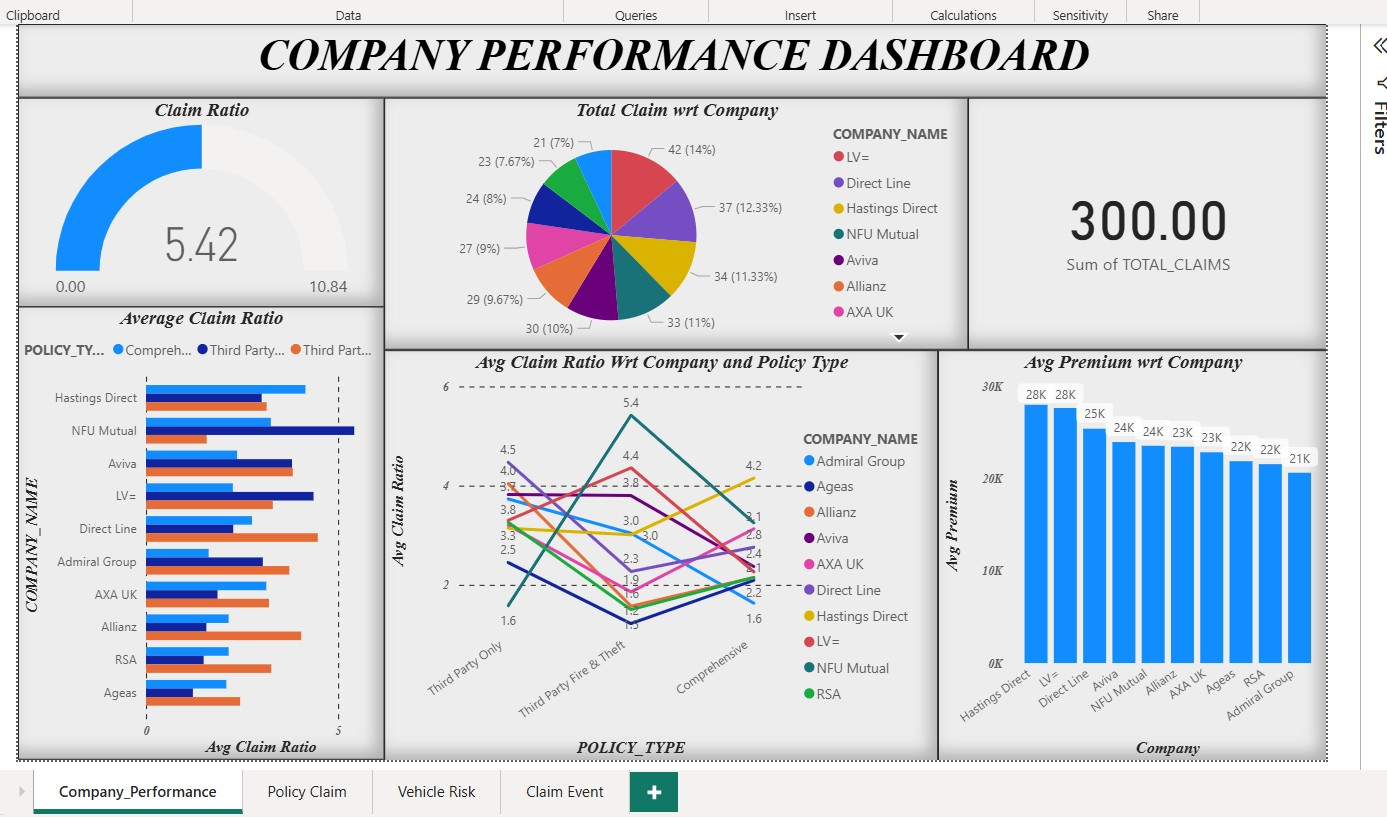

This screenshot's page, from the dashboard's own definition file:
{"tool":"powerbi","page":{"name":"Company_Performance","canvas":[1280,720],"ordinal":0},"visuals":[{"type":"textbox","box":[0,0,1280.6,71.8],"z":0},{"type":"gauge","title":" Claim Ratio","fields":{"Y":["Max(FACT_COMPANY_PERFORMANCE.CLAIM_RATIO)"]},"box":[0,71.6,358,205.2],"z":1000},{"type":"clusteredBarChart","title":"Average Claim Ratio","fields":{"Category":["FACT_COMPANY_PERFORMANCE.COMPANY_NAME"],"Series":["FACT_COMPANY_PERFORMANCE.POLICY_TYPE"],"Y":["Avg(FACT_COMPANY_PERFORMANCE.CLAIM_RATIO)"]},"box":[0,276.8,358,443.4],"z":2000},{"type":"pieChart","title":"Total Claim wrt Company","fields":{"Category":["FACT_COMPANY_PERFORMANCE.COMPANY_NAME"],"Y":["Sum(FACT_COMPANY_PERFORMANCE.TOTAL_CLAIMS)"]},"box":[357.6,72.1,571,246.7],"z":3000},{"type":"lineChart","title":"Avg Claim Ratio Wrt Company and Policy Type","fields":{"Category":["FACT_COMPANY_PERFORMANCE.POLICY_TYPE"],"Y":["Avg(FACT_COMPANY_PERFORMANCE.CLAIM_RATIO)"],"Series":["FACT_COMPANY_PERFORMANCE.COMPANY_NAME"]},"box":[357.6,318.8,541.9,401.9],"z":4000},{"type":"lineStackedColumnComboChart","title":"Avg Premium wrt Company","fields":{"Category":["FACT_COMPANY_PERFORMANCE.COMPANY_NAME"],"Y":["Avg(FACT_COMPANY_PERFORMANCE.TOTAL_PREMIUM)"]},"box":[899.4,318.8,381.1,401.9],"z":5000},{"type":"card","fields":{"Values":["Sum(FACT_COMPANY_PERFORMANCE.TOTAL_CLAIMS)"]},"box":[928.5,72.1,352,246.7],"z":6000}]}

Visuals, with their boxes on the page's 1280x720 design canvas (x1, y1, x2, y2). These are canvas units, not pixel positions in the 1387x817 screenshot, which may show the page scaled, cropped or inside an application window:
textbox: detection(0, 0, 1281, 72)
" Claim Ratio" gauge: detection(0, 72, 358, 277)
"Average Claim Ratio" clusteredBarChart: detection(0, 277, 358, 720)
"Total Claim wrt Company" pieChart: detection(358, 72, 929, 319)
"Avg Claim Ratio Wrt Company and Policy Type" lineChart: detection(358, 319, 900, 721)
"Avg Premium wrt Company" lineStackedColumnComboChart: detection(899, 319, 1280, 721)
card - Sum(FACT_COMPANY_PERFORMANCE.TOTAL_CLAIMS): detection(928, 72, 1280, 319)
